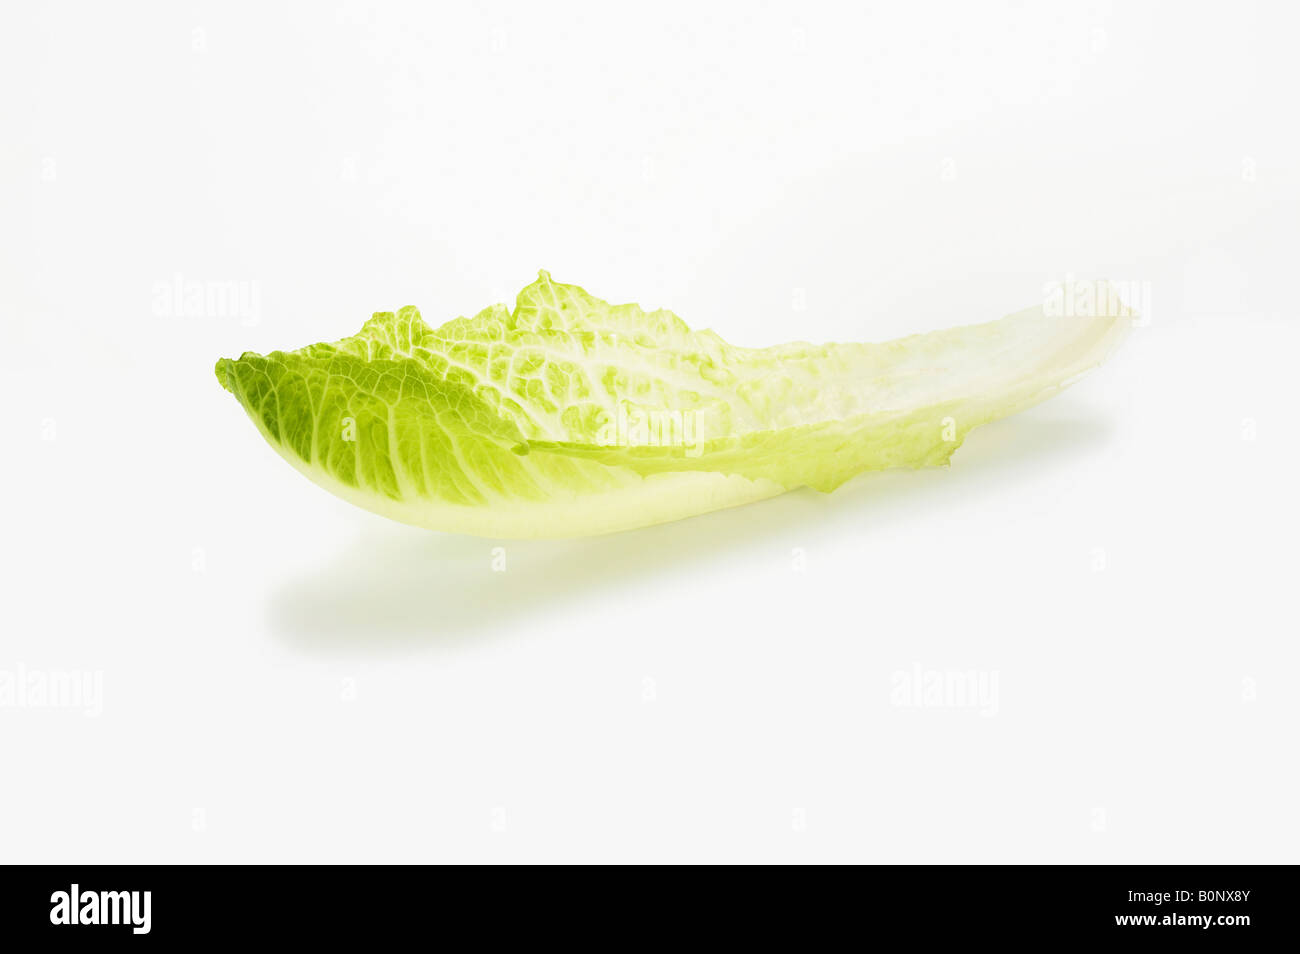lettuce: (123, 123, 1215, 655)
